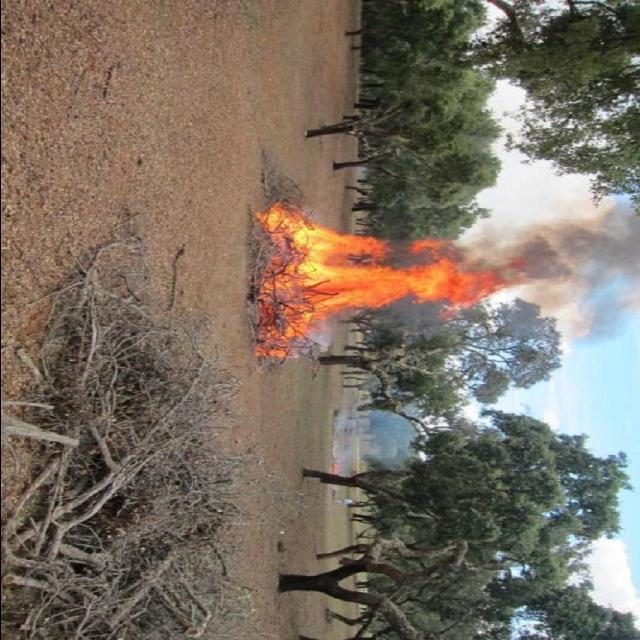Fire: (258, 208, 489, 358)
